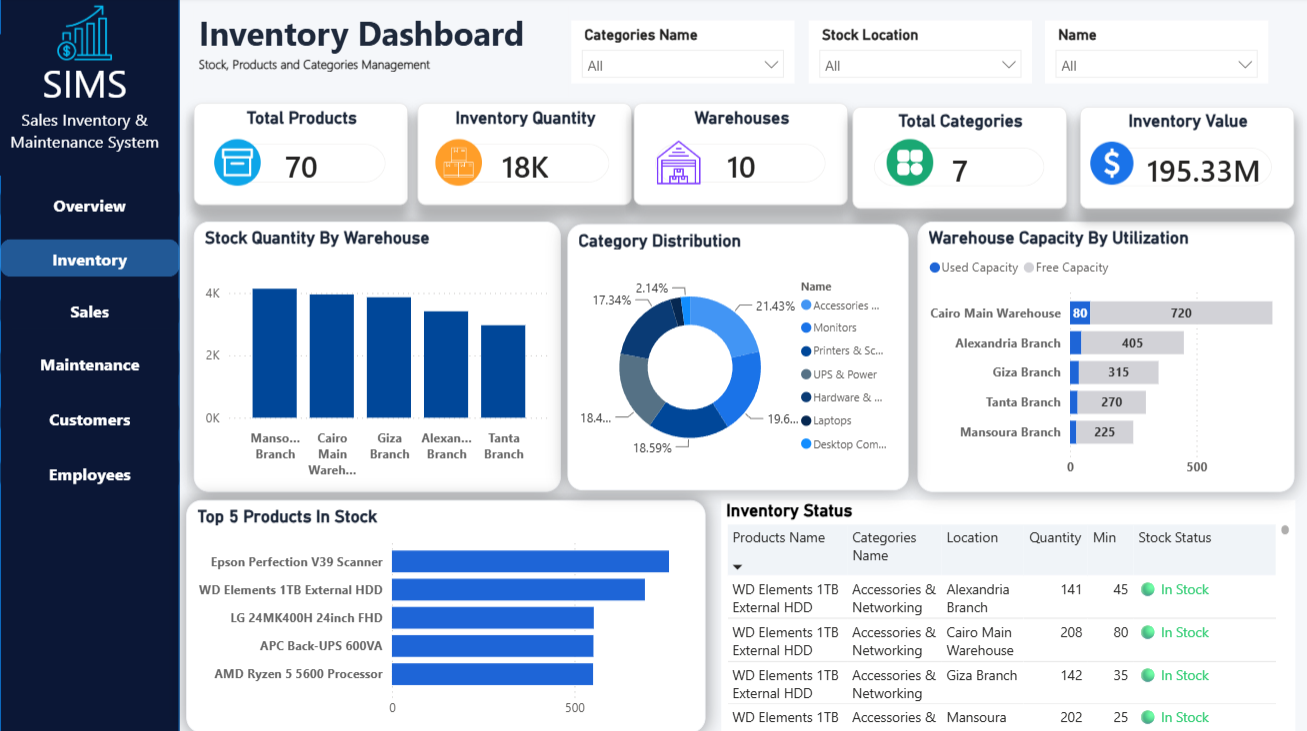

This screenshot's page, from the dashboard's own definition file:
{"tool":"powerbi","page":{"name":"Inventory","canvas":[1280,720],"ordinal":1},"visuals":[{"type":"shape","box":[0,0,175.6,720.4],"z":0},{"type":"textbox","box":[189,8,366,89],"z":1000},{"type":"slicer","fields":{"Values":["categories.Name"]},"box":[559,23.3,218.2,61.7],"z":2000},{"type":"slicer","fields":{"Values":["stock_location.Location"]},"box":[791,23,218.2,61.7],"z":3000},{"type":"cardVisual","title":"Total Products","fields":{"Data":["CountNonNull(products.Products_id)"]},"box":[189,104.3,209.9,100.2],"z":4000},{"type":"cardVisual","title":"Inventory Quantity","fields":{"Data":["Sum(stock_products.Quantity)"]},"box":[408,104.3,209.9,100.2],"z":5000},{"type":"cardVisual","title":"Warehouses","fields":{"Data":["Count(stocks.Stock_id)"]},"box":[620,104.3,209.9,100.2],"z":6000},{"type":"cardVisual","title":"Total Categories","fields":{"Data":["CountNonNull(categories.Categories_id)"]},"box":[834,107,209.9,100.2],"z":7000},{"type":"columnChart","title":"Stock Quantity By Warehouse","fields":{"Category":["stock_location.Location"],"Y":["Sum(stock_products.Quantity)"]},"box":[189.4,219.6,359,264.8],"z":8000},{"type":"barChart","title":"Top 5 Products In Stock","fields":{"Category":["products.Name"],"Y":["Sum(stock_products.Quantity)"]},"box":[182.5,492.6,507.7,227.8],"z":9000},{"type":"tableEx","title":"Inventory Status","fields":{"Values":["products.Name","categories.Name","stock_location.Location","Sum(stock_products.Quantity)","Sum(stocks.Min_capacity)","stocks.Stock Status"]},"box":[705.3,492.6,561.2,227.8],"z":10000},{"type":"barChart","title":"Warehouse Capacity  By Utilization ","fields":{"Category":["stock_location.Location"],"Y":["stocks.Used Capacity","stocks.Free Capacity"]},"box":[898,219.6,369,264.8],"z":11000},{"type":"donutChart","title":"Category Distribution","fields":{"Category":["categories.Name"],"Y":["Sum(stock_products.Quantity)"]},"box":[555.7,222.3,333.4,260.7],"z":12000},{"type":"slicer","fields":{"Values":["suppliers.Name"]},"box":[1022.3,23.3,218.2,61.7],"z":13000},{"type":"textbox","box":[0,37,166,138],"z":14000},{"type":"image","box":[0,8.2,166,53.5],"z":15000},{"type":"actionButton","box":[0,185.2,175.6,37],"z":16000},{"type":"actionButton","box":[0,237.4,175.6,37],"z":17000},{"type":"actionButton","box":[0,288.2,175.6,37],"z":18000},{"type":"actionButton","box":[0,340.3,175.6,37],"z":19000},{"type":"actionButton","box":[0,393.8,175.6,37],"z":20000},{"type":"actionButton","box":[0,447.3,175.6,37],"z":21000},{"type":"cardVisual","title":"Inventory Value","fields":{"Data":["pro_sales.Inventory Value"]},"box":[1056.6,107,209.9,100.2],"z":22000},{"type":"image","box":[1056.2,135.4,62.7,54.2],"z":23000},{"type":"image","box":[865.2,139.7,48.5,45.6],"z":24000},{"type":"image","box":[208.1,139.7,48.5,45.6],"z":25000},{"type":"image","box":[424.8,139.7,48.5,45.6],"z":26000},{"type":"image","box":[640,139.7,48.5,45.6],"z":27000}]}

Visuals, with their boxes on the page's 1280x720 design canvas (x1, y1, x2, y2). These are canvas units, not pixel positions in the 1307x731 screenshot, which may show the page scaled, cropped or inside an application window:
shape: detection(0, 0, 176, 720)
textbox: detection(189, 8, 555, 97)
slicer - categories.Name: detection(559, 23, 777, 85)
slicer - stock_location.Location: detection(791, 23, 1009, 85)
"Total Products" cardVisual: detection(189, 104, 399, 204)
"Inventory Quantity" cardVisual: detection(408, 104, 618, 204)
"Warehouses" cardVisual: detection(620, 104, 830, 204)
"Total Categories" cardVisual: detection(834, 107, 1044, 207)
"Stock Quantity By Warehouse" columnChart: detection(189, 220, 548, 484)
"Top 5 Products In Stock" barChart: detection(182, 493, 690, 720)
"Inventory Status" tableEx: detection(705, 493, 1266, 720)
"Warehouse Capacity  By Utilization " barChart: detection(898, 220, 1267, 484)
"Category Distribution" donutChart: detection(556, 222, 889, 483)
slicer - suppliers.Name: detection(1022, 23, 1240, 85)
textbox: detection(0, 37, 166, 175)
image: detection(0, 8, 166, 62)
actionButton: detection(0, 185, 176, 222)
actionButton: detection(0, 237, 176, 274)
actionButton: detection(0, 288, 176, 325)
actionButton: detection(0, 340, 176, 377)
actionButton: detection(0, 394, 176, 431)
actionButton: detection(0, 447, 176, 484)
"Inventory Value" cardVisual: detection(1057, 107, 1266, 207)
image: detection(1056, 135, 1119, 190)
image: detection(865, 140, 914, 185)
image: detection(208, 140, 257, 185)
image: detection(425, 140, 473, 185)
image: detection(640, 140, 688, 185)
